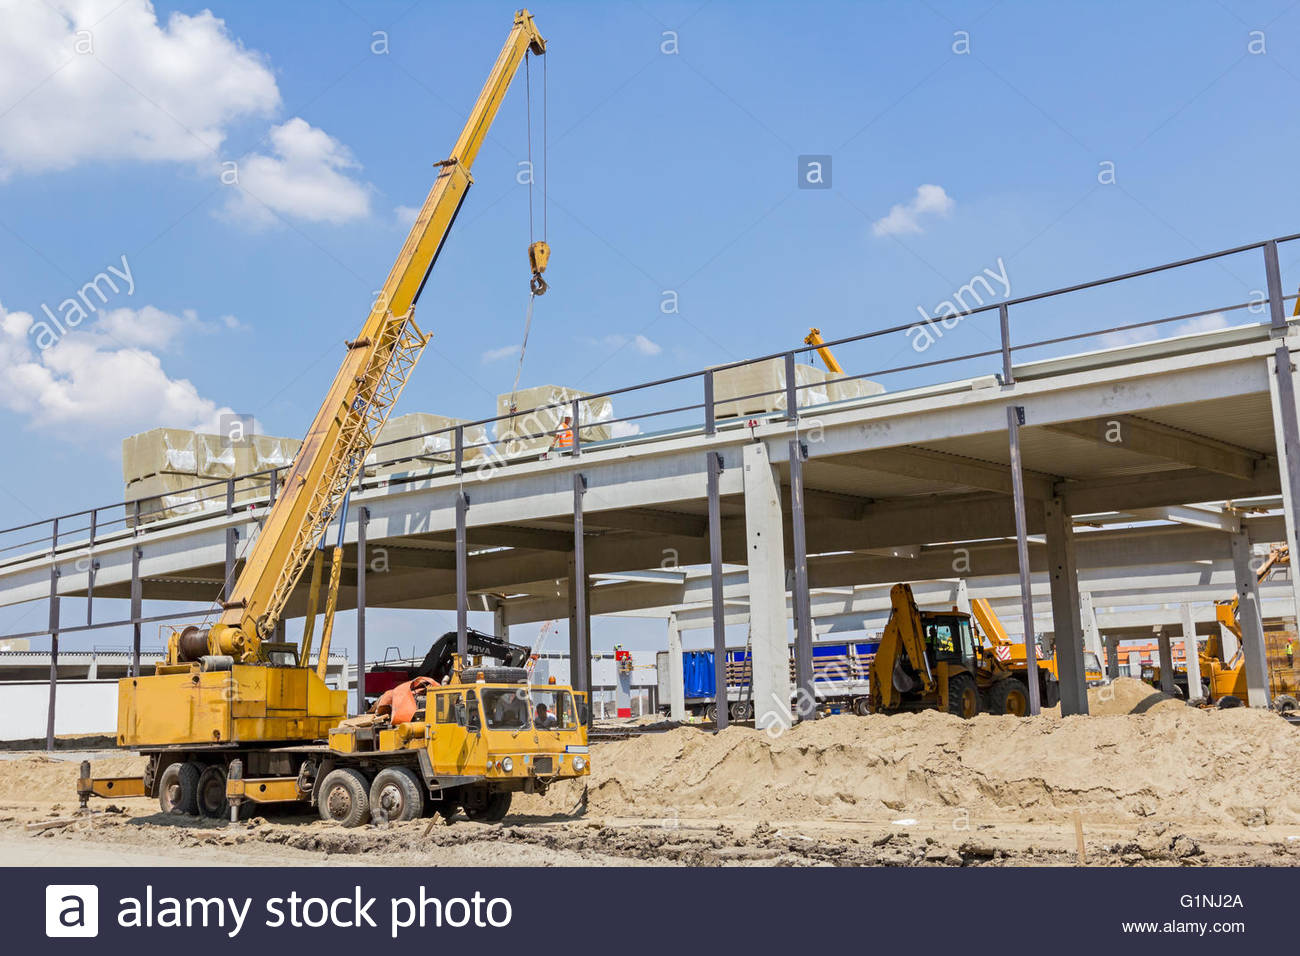crane: (104, 7, 592, 827)
